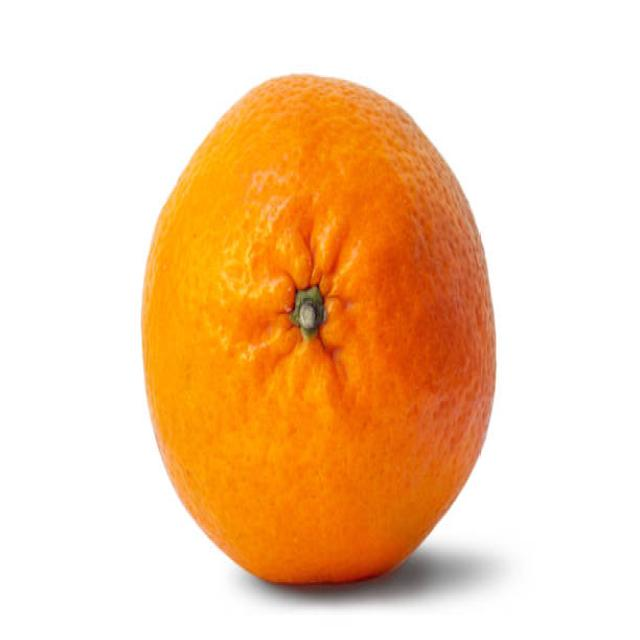orange: (142, 75, 497, 584)
